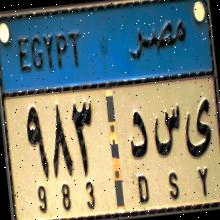3: (69, 100, 100, 175)
8: (46, 100, 76, 178)
9: (23, 100, 52, 181)
daal: (124, 105, 150, 164)
seen: (148, 98, 183, 158)
yaa: (178, 90, 218, 160)
